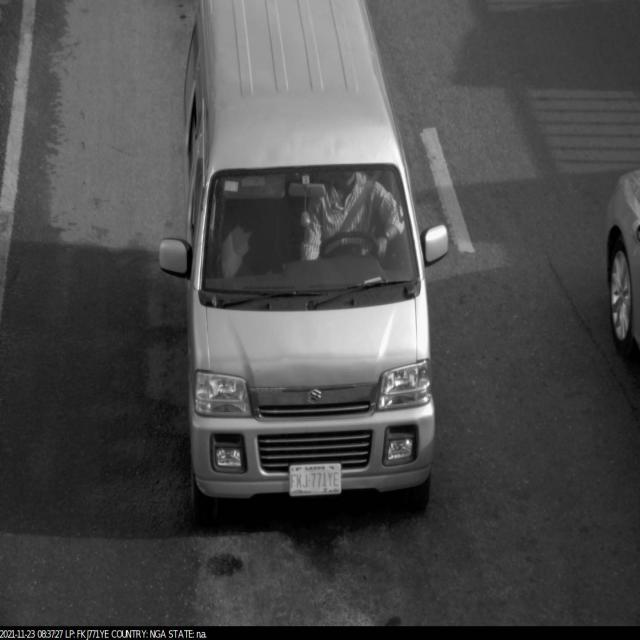windshield: (199, 140, 431, 334)
